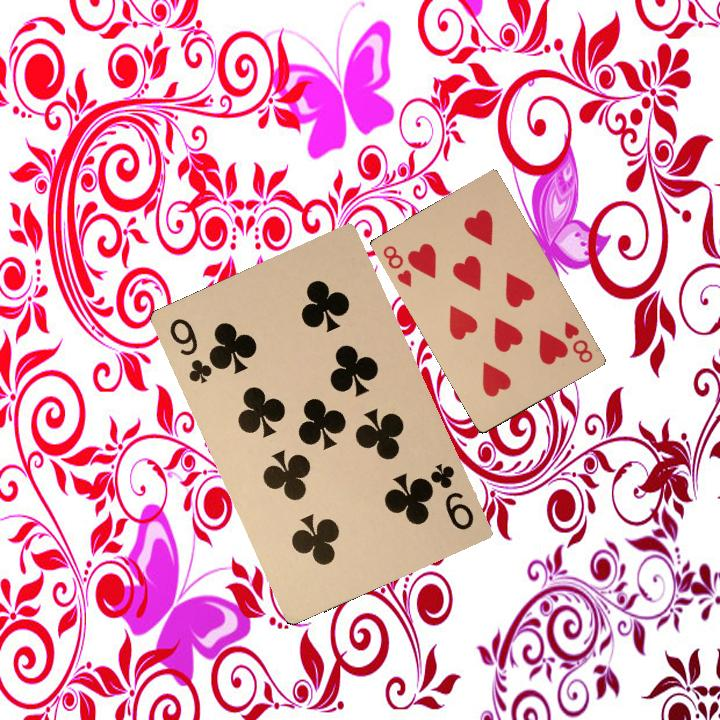8h: (560, 317, 595, 366), (379, 241, 414, 289)
9c: (165, 314, 218, 387), (426, 459, 477, 533)
